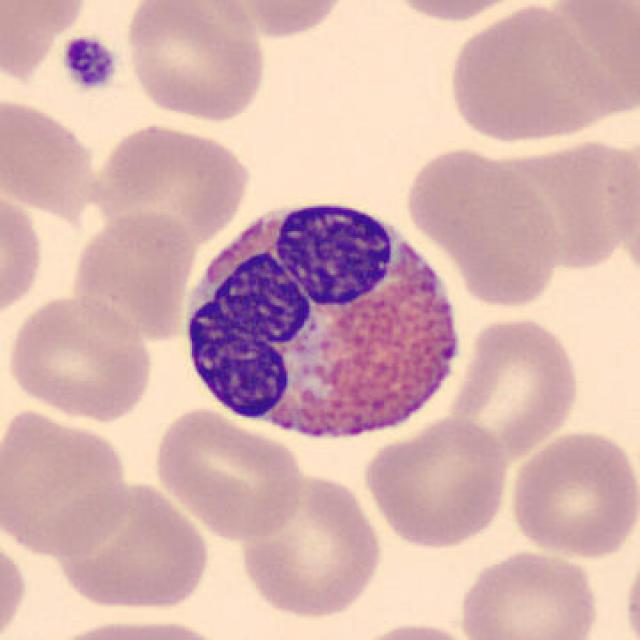Eosinophil: (174, 180, 475, 456)
Platelets: (59, 34, 121, 95)
RBC: (400, 147, 572, 309), (443, 2, 617, 146), (233, 466, 386, 622), (46, 478, 214, 614), (149, 402, 306, 543), (89, 118, 254, 250), (359, 414, 514, 550), (445, 312, 583, 462), (3, 291, 156, 423), (488, 141, 639, 268), (66, 204, 199, 344), (120, 0, 270, 123), (505, 426, 638, 560), (455, 546, 602, 640), (0, 98, 106, 226), (0, 185, 46, 326), (204, 0, 356, 41), (32, 612, 236, 640), (375, 0, 539, 25), (0, 2, 89, 44), (0, 529, 30, 640), (339, 619, 484, 640), (620, 537, 639, 640)
